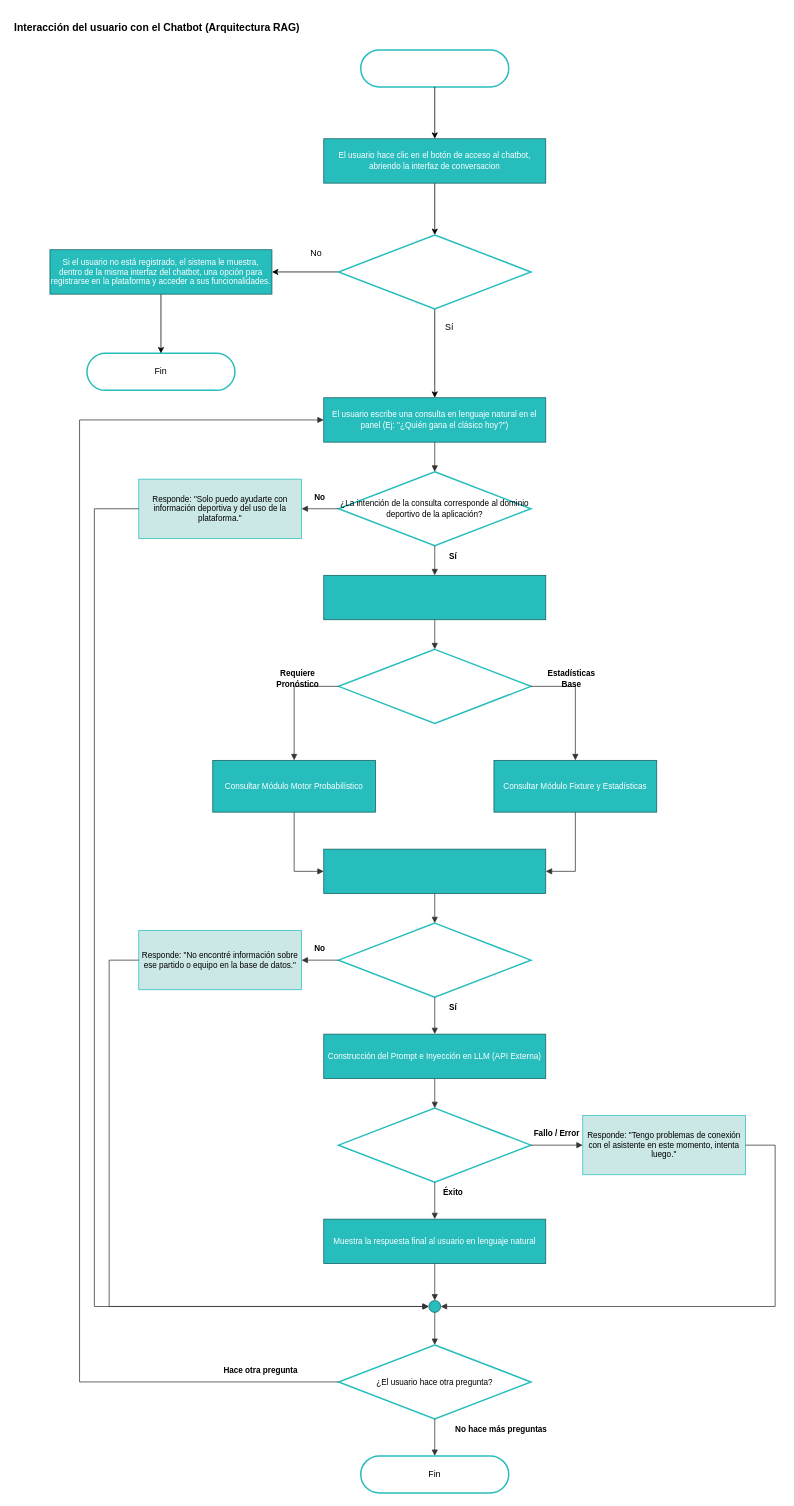
The diagram is 794 pixels wide and 1506 high, and some of its shapes have lost their labels. The shapes that lost their labels are listed below. From the top down, each one's centre as x and y in pixels, then its label:
At [434,68]: "Comienza".
At [434,271]: "¿Esta registrado? (como cliente/admin)".
At [434,597]: "Extraer Entidades (Equipos, Torneo, Jugadores, Fecha)".
At [434,686]: "¿La consulta requiere el cálculo de probabilidades o un pronóstico?".
At [434,871]: "Construir Contexto RAG recuperando los datos estructurados".
At [434,960]: "¿Se encontraron los datos solicitados en la Base de Datos?".
At [434,1145]: "¿Se generó la respuesta exitosamente desde el modelo de lenguaje?".
